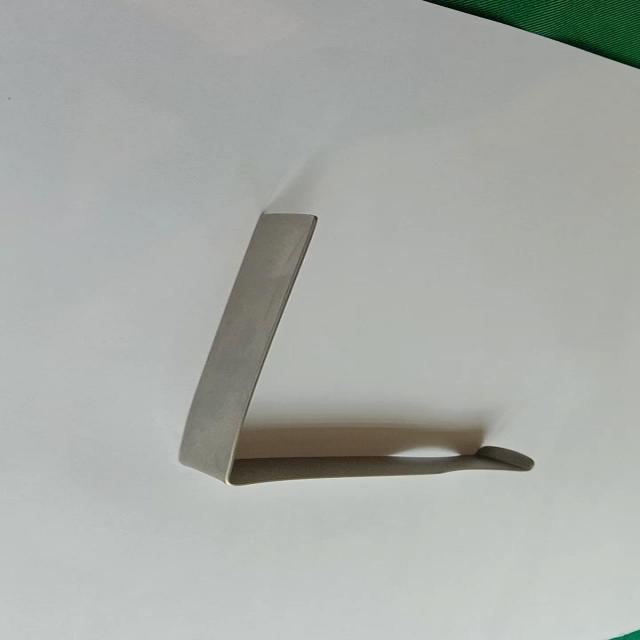AustinRetractor: (160, 206, 551, 492)
